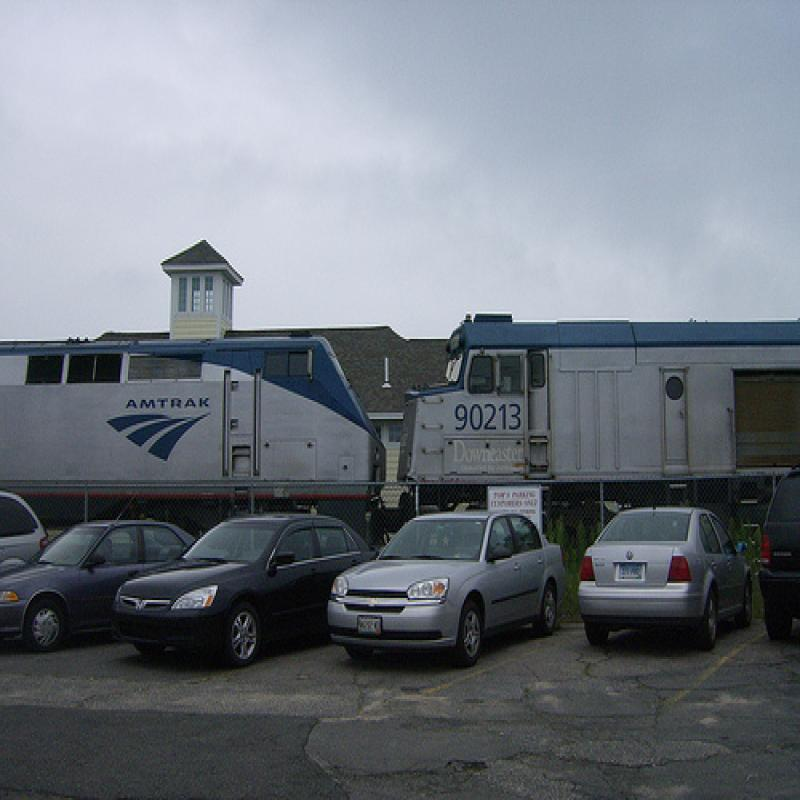train: (2, 318, 800, 550)
